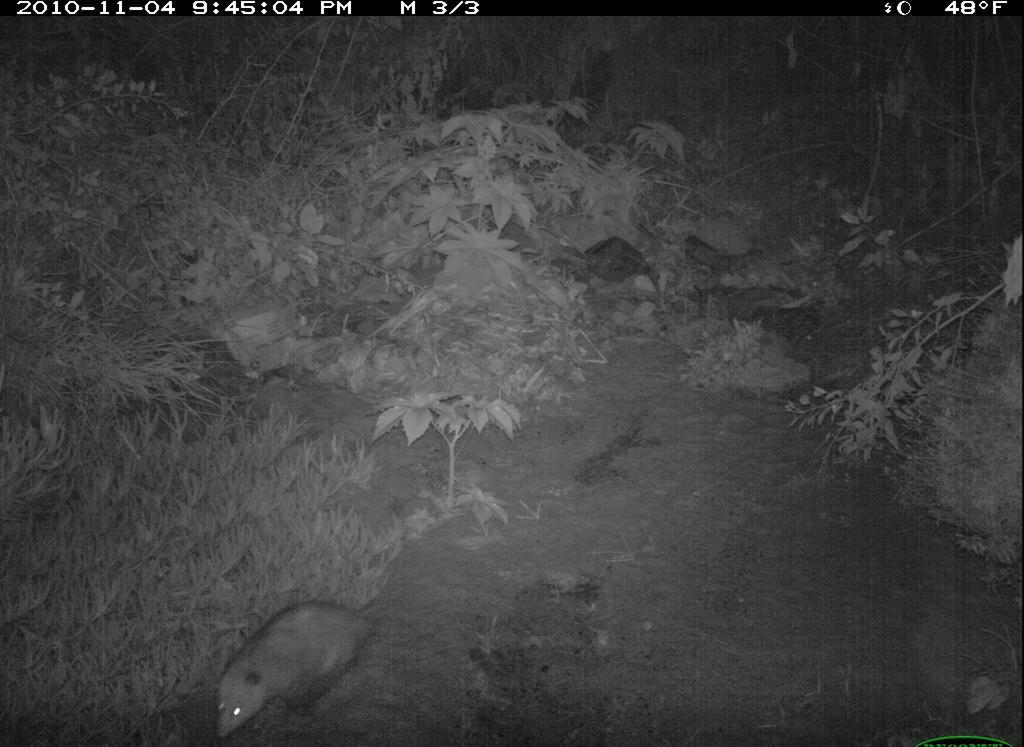opossum: (203, 551, 436, 744)
